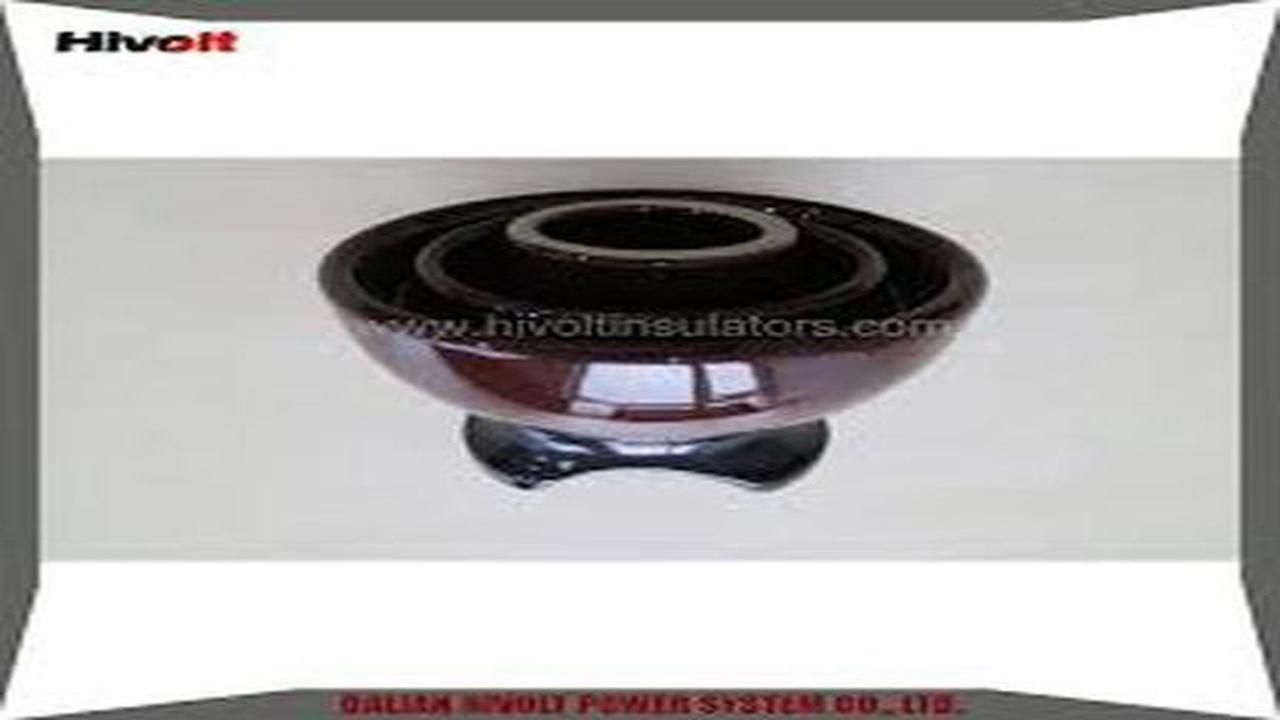insulator_pin: (296, 174, 991, 506)
